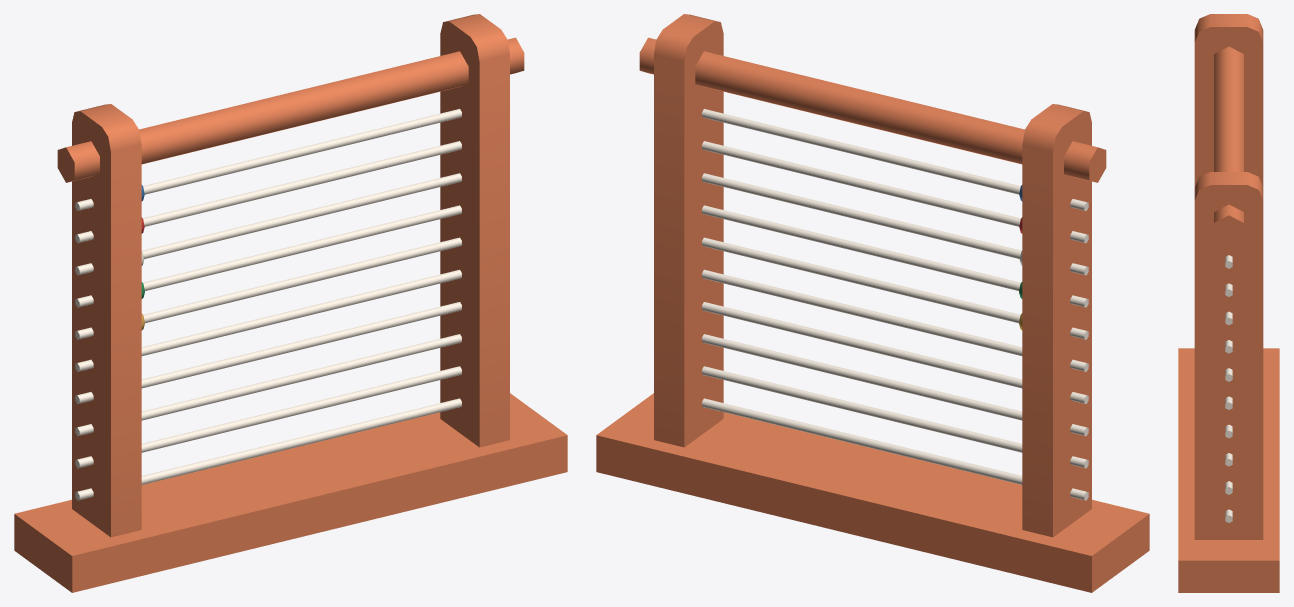
File: Abacus_01.fbx
3 renders of one model, left to right at view 1: azimuth 30°, elevation 25°; view 2: azimuth 150°, elevation 25°; view 3: azimuth 270°, elevation 25°, orthographic. The views are drawn at different scales.
Parts seen in each view (by area): view 1: Abacus_01; view 2: Abacus_01; view 3: Abacus_01.
Boxes of the visible parts, x1=… form: Abacus_01: x1=14, y1=14, x2=567, y2=592; Abacus_01: x1=596, y1=14, x2=1149, y2=592; Abacus_01: x1=1178, y1=14, x2=1279, y2=592.
Bounding box in the file's own units: 0.3585 × 0.3048 × 0.0725.
